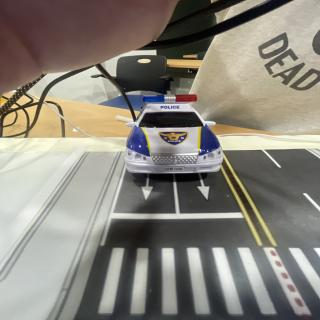Police_car: (125, 94, 223, 174)
